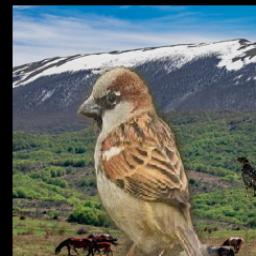Crow: (237, 156, 256, 197)
Sparrow: (76, 66, 215, 256)
